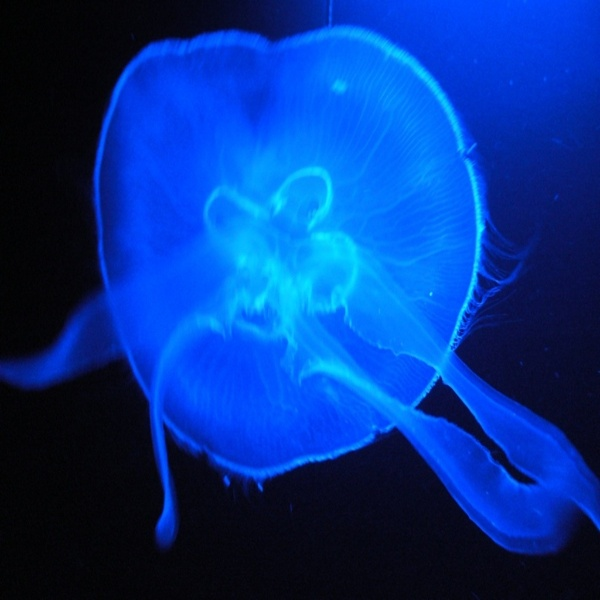Jellyfish: (0, 0, 600, 556)
